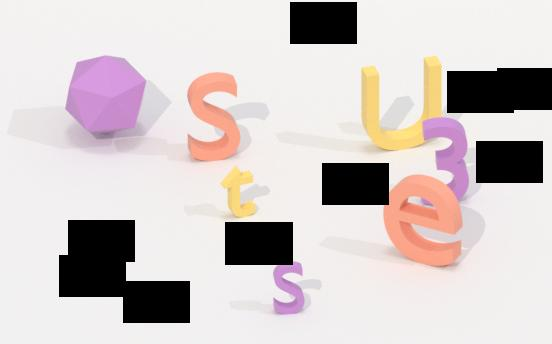3: (417, 113, 475, 210)
dagiac: (64, 52, 149, 141)
e: (382, 170, 465, 272)
s: (182, 67, 244, 167), (271, 259, 308, 321)
t: (218, 161, 262, 223)
u: (358, 53, 448, 157)
